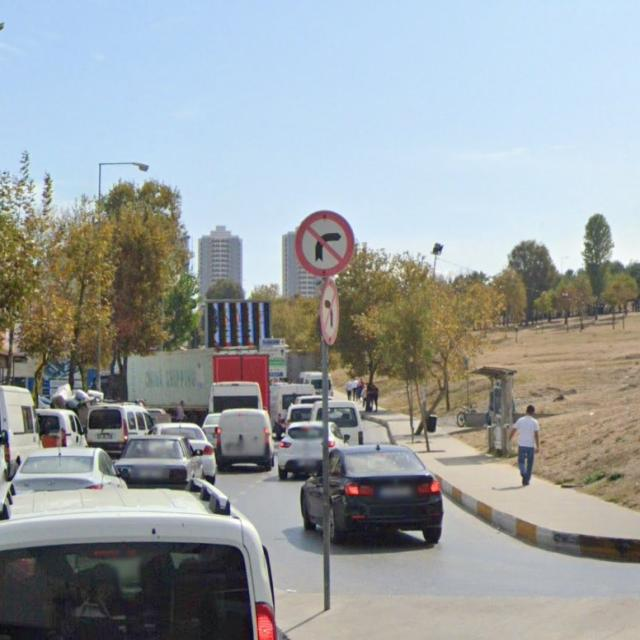sagadonulmez: (296, 210, 354, 277)
soladonulmez: (321, 278, 338, 346)
